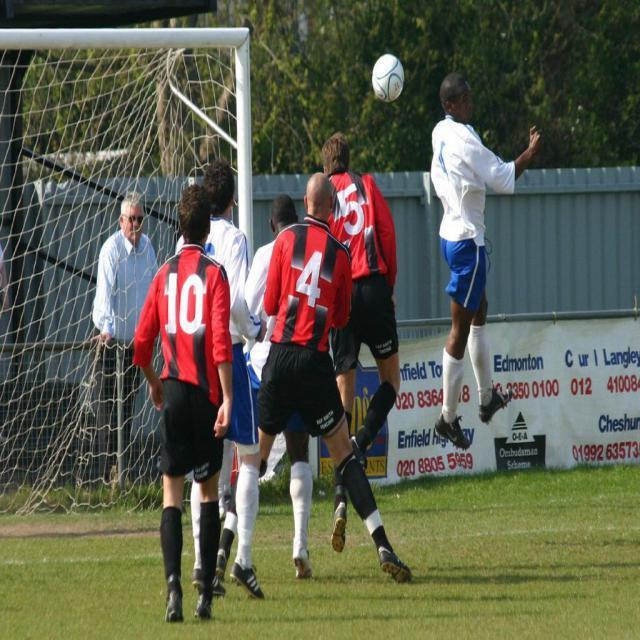football: (348, 46, 414, 107)
